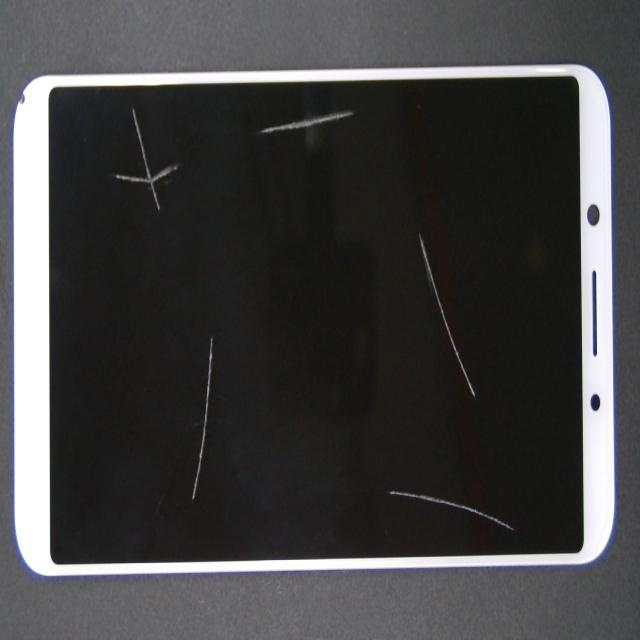scratch: (341, 281, 640, 640), (120, 57, 296, 575), (282, 288, 640, 498), (78, 139, 271, 291), (229, 49, 491, 156)
